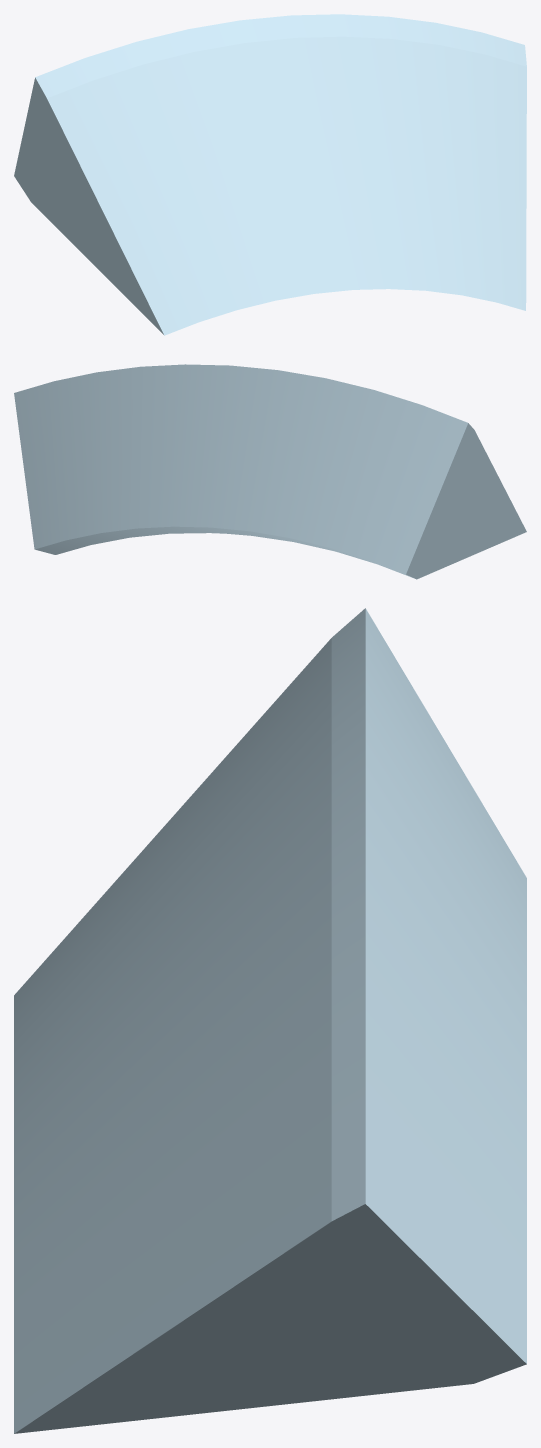
The model's file is Sub_9_Cell_1_3.gltf.
3 renders of one model, top to bottom at view 1: azimuth 30°, elevation 25°; view 2: azimuth 150°, elevation 25°; view 3: azimuth 270°, elevation 25°, orthographic. The views are drawn at different scales.
Visible parts, largest first — view 1: Sub_9_Cell_1_3; view 2: Sub_9_Cell_1_3; view 3: Sub_9_Cell_1_3.
Part boxes in pixels (x1,y1,x2,y2): Sub_9_Cell_1_3: (14, 14, 526, 335); Sub_9_Cell_1_3: (14, 364, 526, 579); Sub_9_Cell_1_3: (14, 608, 526, 1433).
Size of the model in its own units: 0.1169 by 0.0617 by 0.0581.
